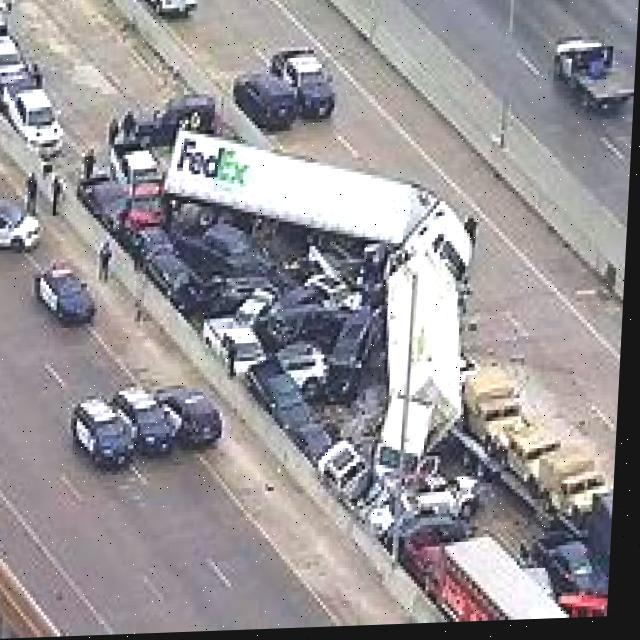multiple_accident: (69, 109, 611, 612)
